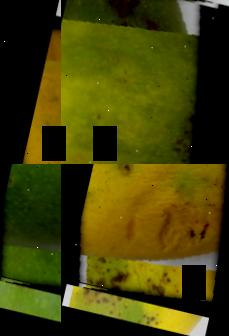PartiallyRipe: (61, 0, 229, 164)
Ripe: (65, 164, 229, 314), (5, 19, 61, 164)
Unripe: (0, 164, 61, 310)
